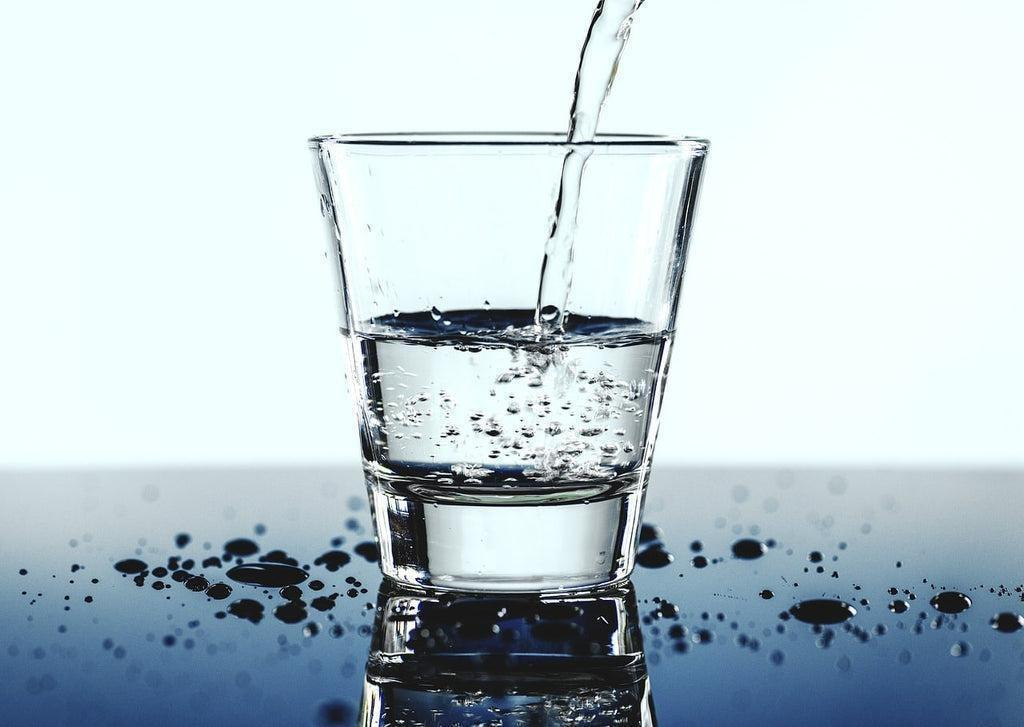glass-normal: (301, 130, 712, 589)
